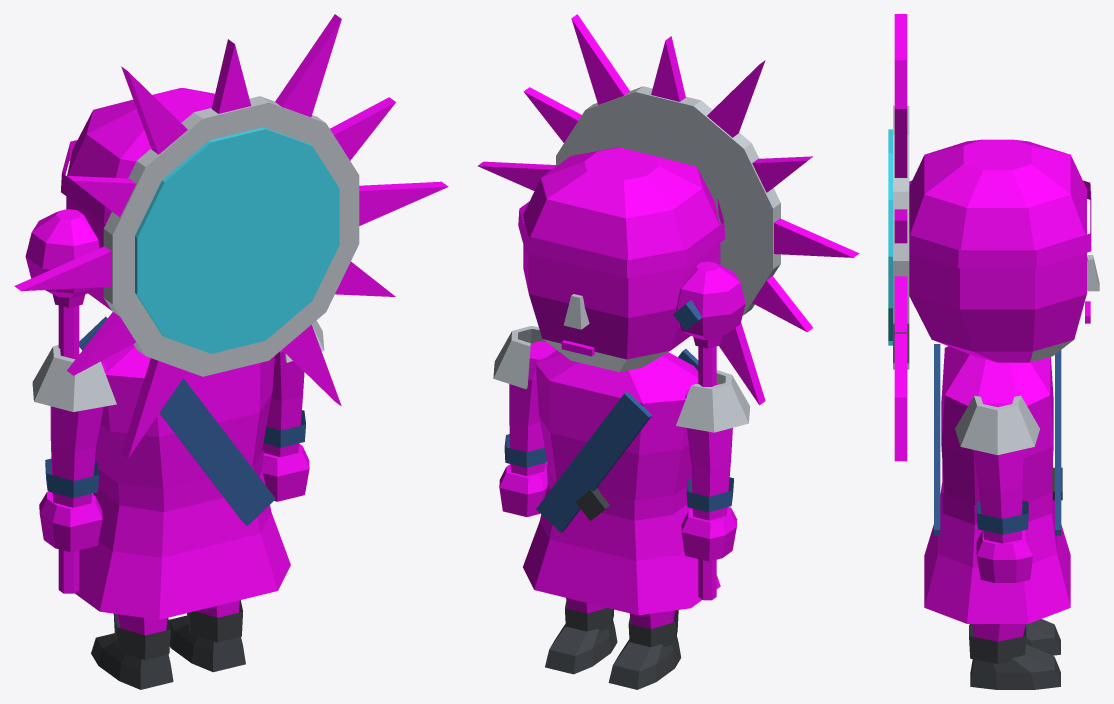
The model's file is CH_GoldenIdol_SilverIdol.fbx.
3 renders of one model, left to right at view 1: azimuth 30°, elevation 25°; view 2: azimuth 150°, elevation 25°; view 3: azimuth 270°, elevation 25°, orthographic. The views are drawn at different scales.
Parts seen in each view (by area): view 1: Head, Body, ArmL, ArmR, LegL, LegR; view 2: Head, Body, ArmL, ArmR, LegL, LegR; view 3: Head, Body, ArmR, LegR, LegL.
Part boxes in pixels (x1,y1,x2,y2): Head: [14, 14, 448, 458]; Body: [75, 316, 290, 619]; ArmL: [25, 209, 116, 593]; ArmR: [262, 320, 324, 501]; LegL: [91, 613, 173, 689]; LegR: [169, 600, 245, 672]; Head: [477, 14, 859, 405]; Body: [523, 349, 720, 615]; ArmL: [673, 261, 750, 600]; ArmR: [493, 326, 556, 516]; LegL: [608, 610, 681, 689]; LegR: [545, 598, 617, 674]; Head: [888, 14, 1099, 461]; Body: [924, 344, 1070, 623]; ArmR: [955, 395, 1039, 582]; LegR: [969, 624, 1060, 689]; LegL: [970, 619, 1060, 655].
Bounding box in the file's own units: 1.24 × 0.5829 × 1.84.
